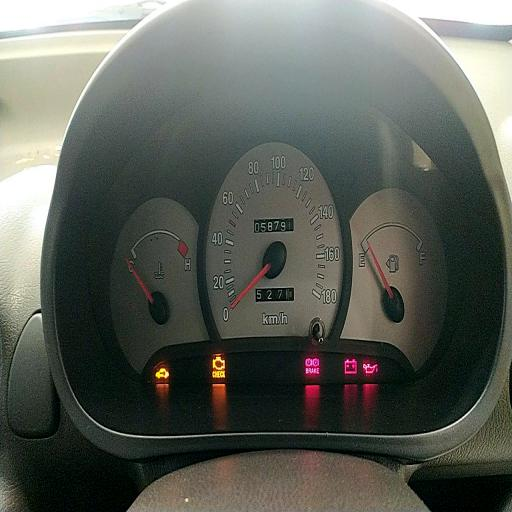brake_system_fault: (306, 356, 312, 368)
check_engine: (212, 356, 225, 372)
oil: (363, 362, 378, 376)
vehicle_charging: (345, 359, 357, 376)
